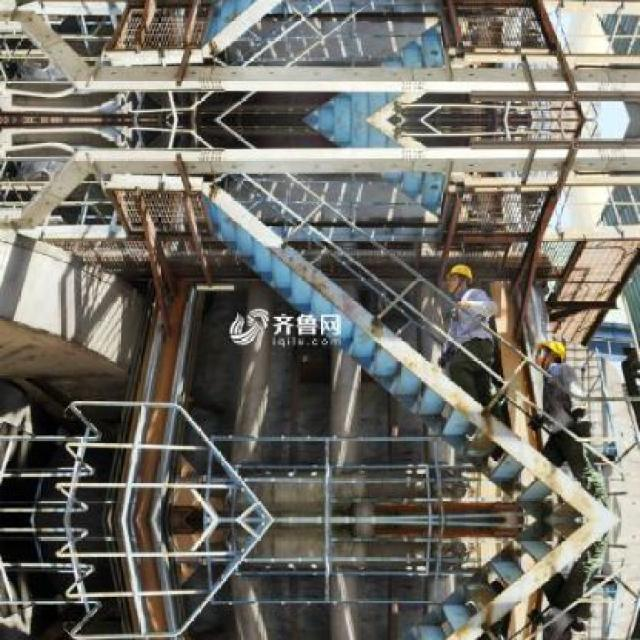helmet: (530, 331, 568, 371), (441, 262, 473, 295)
